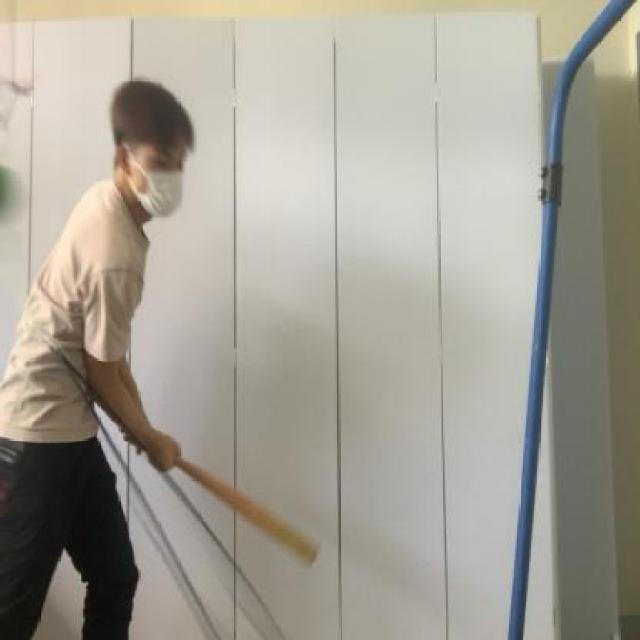baseball: (1, 153, 33, 242)
